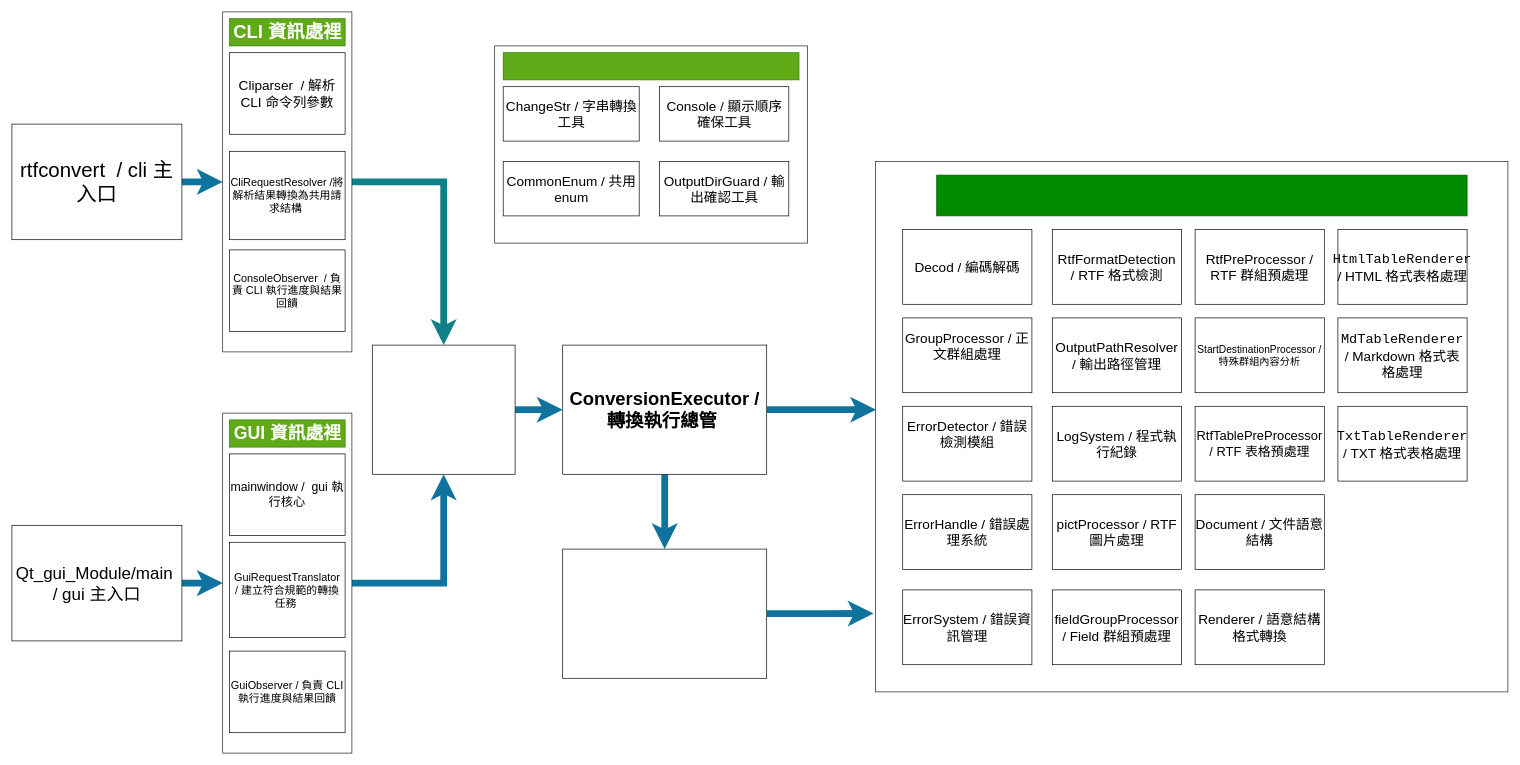
Some shapes in this 1520 by 765 pixel diagram are drawn without their labels. Each missing label, with the centre of its shape:
"ConversionTaskBuilder / 轉換任務建構器" belongs at point (443, 409).
"Mythread / 執行緒管理器" belongs at point (664, 613).
"RTFProcessor / 核心處理流程" belongs at point (1201, 195).
"共用工具庫" belongs at point (651, 66).
